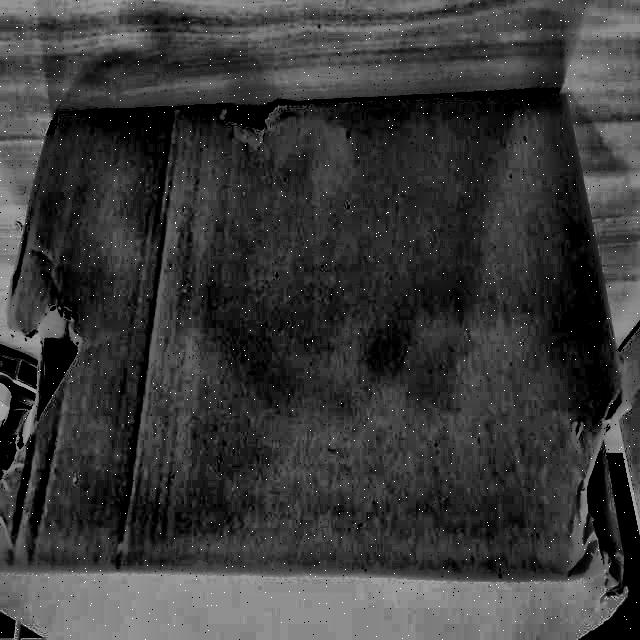box: (1, 76, 636, 640)
hole: (572, 424, 628, 586), (27, 319, 94, 437), (207, 103, 287, 139)
